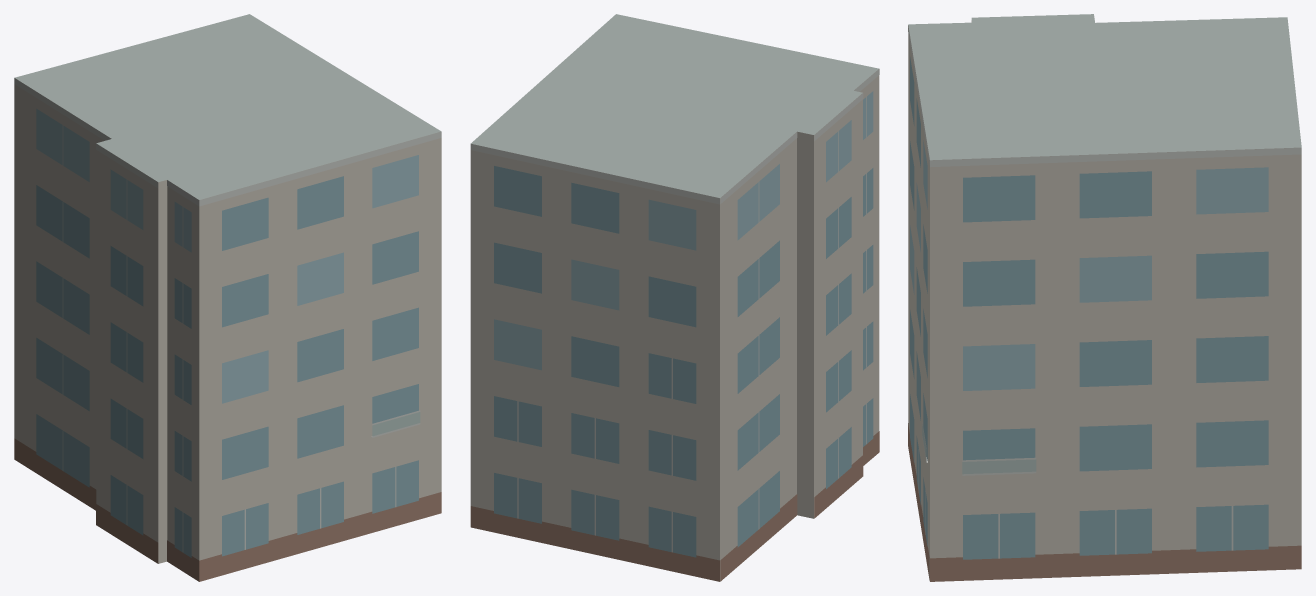
The model's file is survey-upis-32782035.glb.
3 views of the same model, side by side, from view 1: azimuth 30°, elevation 25°; view 2: azimuth 150°, elevation 25°; view 3: azimuth 270°, elevation 25° (orthographic). The views are drawn at different scales.
Visible parts, largest first — view 1: survey-upis-32782035.tmp; view 2: survey-upis-32782035.tmp; view 3: survey-upis-32782035.tmp.
Part boxes in pixels (<box>): survey-upis-32782035.tmp: <box>14,14,441,581</box>; survey-upis-32782035.tmp: <box>470,14,879,581</box>; survey-upis-32782035.tmp: <box>908,14,1301,581</box>.
Bounding box in the file's own units: 10.98 × 14.75 × 12.49.
